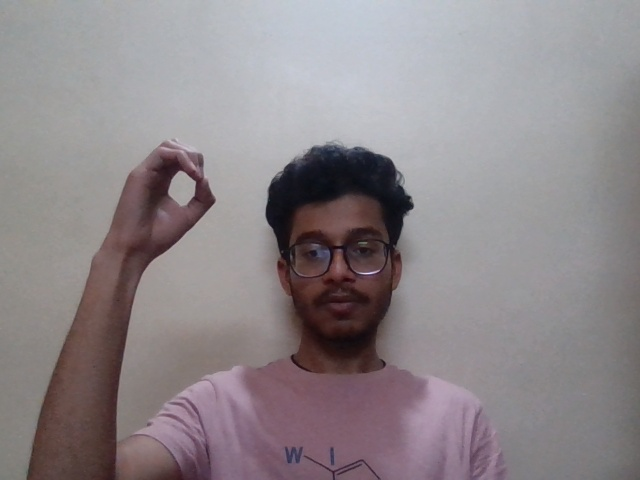O: (100, 128, 229, 284)
